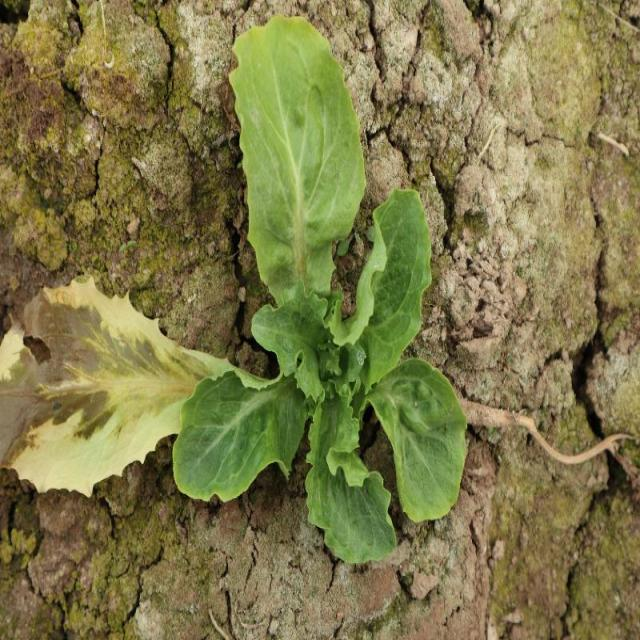crop: (170, 9, 468, 568)
